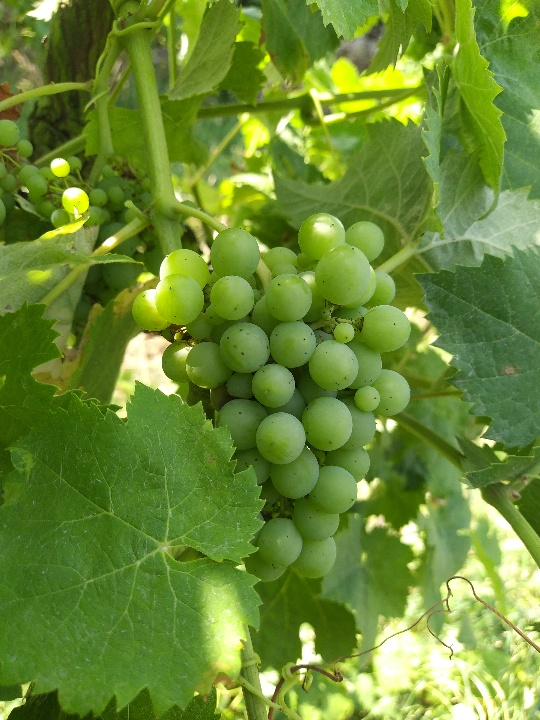grape: (131, 212, 413, 582)
